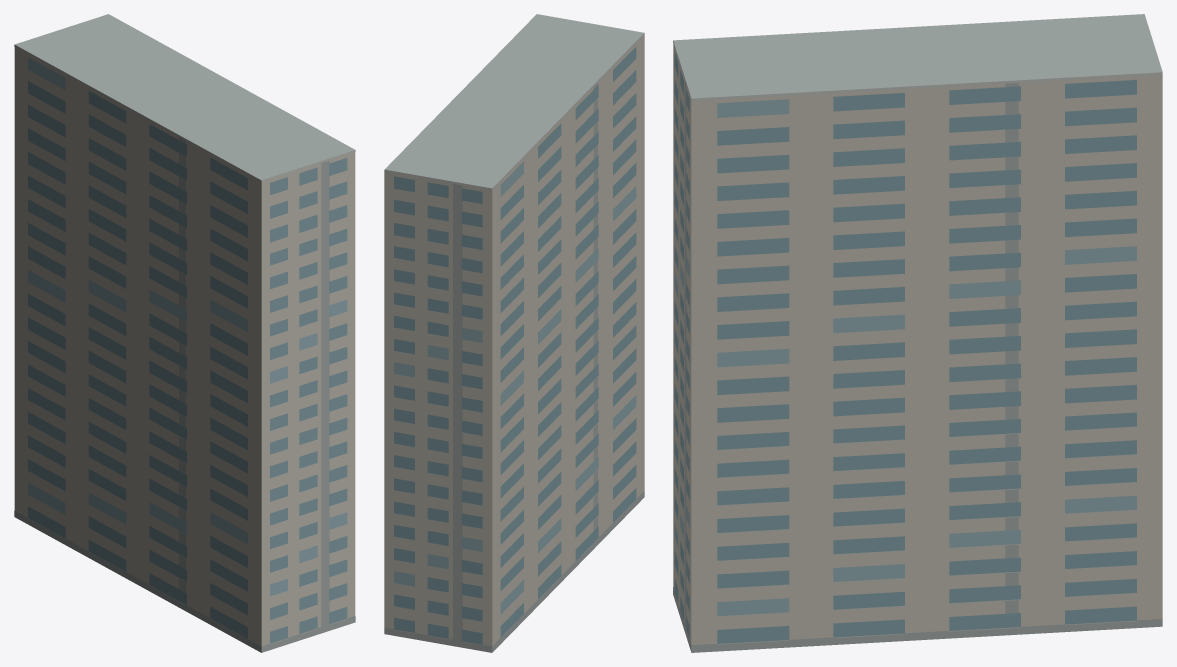
Rendered from residential-a56a07c9-8c1d-4dc9-b234-cc7f1154ff2f.glb.
The picture shows the model from 3 angles, left to right: view 1: azimuth 30°, elevation 25°; view 2: azimuth 150°, elevation 25°; view 3: azimuth 270°, elevation 25°; orthographic projection. The views are drawn at different scales.
Parts seen in each view (by area): view 1: residential-a56a07c9-8c1d-4dc9-b234-cc7f1154ff2f.tmp; view 2: residential-a56a07c9-8c1d-4dc9-b234-cc7f1154ff2f.tmp; view 3: residential-a56a07c9-8c1d-4dc9-b234-cc7f1154ff2f.tmp.
Boxes of the visible parts, bbox=[...] form: residential-a56a07c9-8c1d-4dc9-b234-cc7f1154ff2f.tmp: bbox=[14, 14, 355, 652]; residential-a56a07c9-8c1d-4dc9-b234-cc7f1154ff2f.tmp: bbox=[384, 14, 644, 652]; residential-a56a07c9-8c1d-4dc9-b234-cc7f1154ff2f.tmp: bbox=[673, 14, 1162, 652].
Size of the model in its own units: 17.68 by 54 by 43.24.
